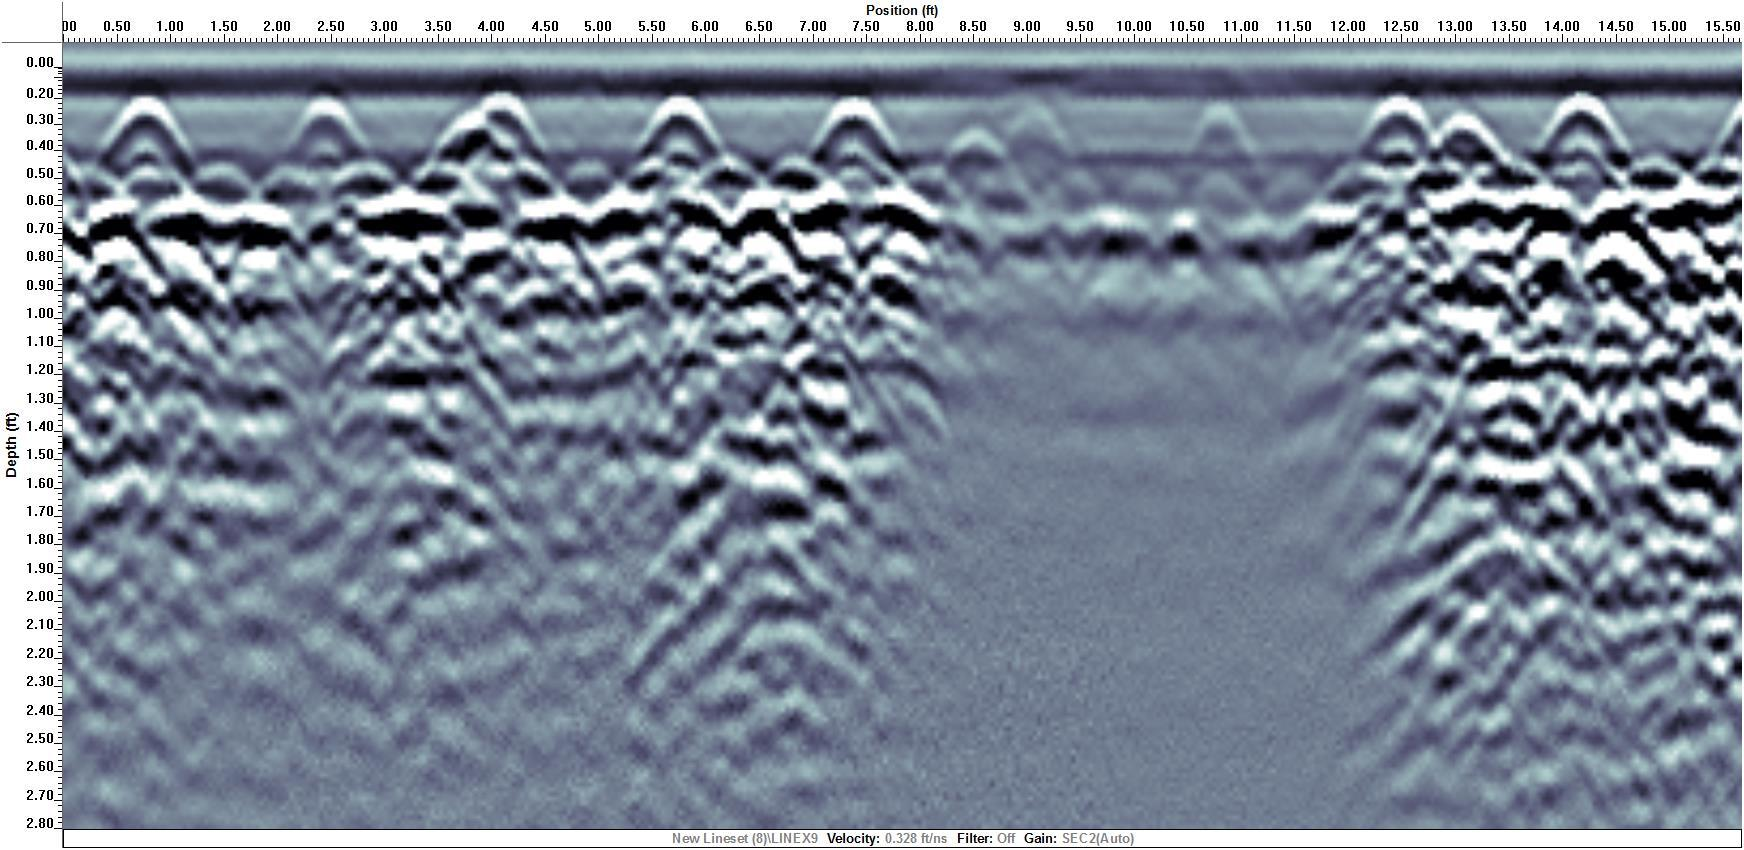hyperbola: (790, 87, 922, 180), (89, 87, 211, 181), (618, 90, 746, 172), (1517, 88, 1639, 170), (1339, 89, 1445, 170)
